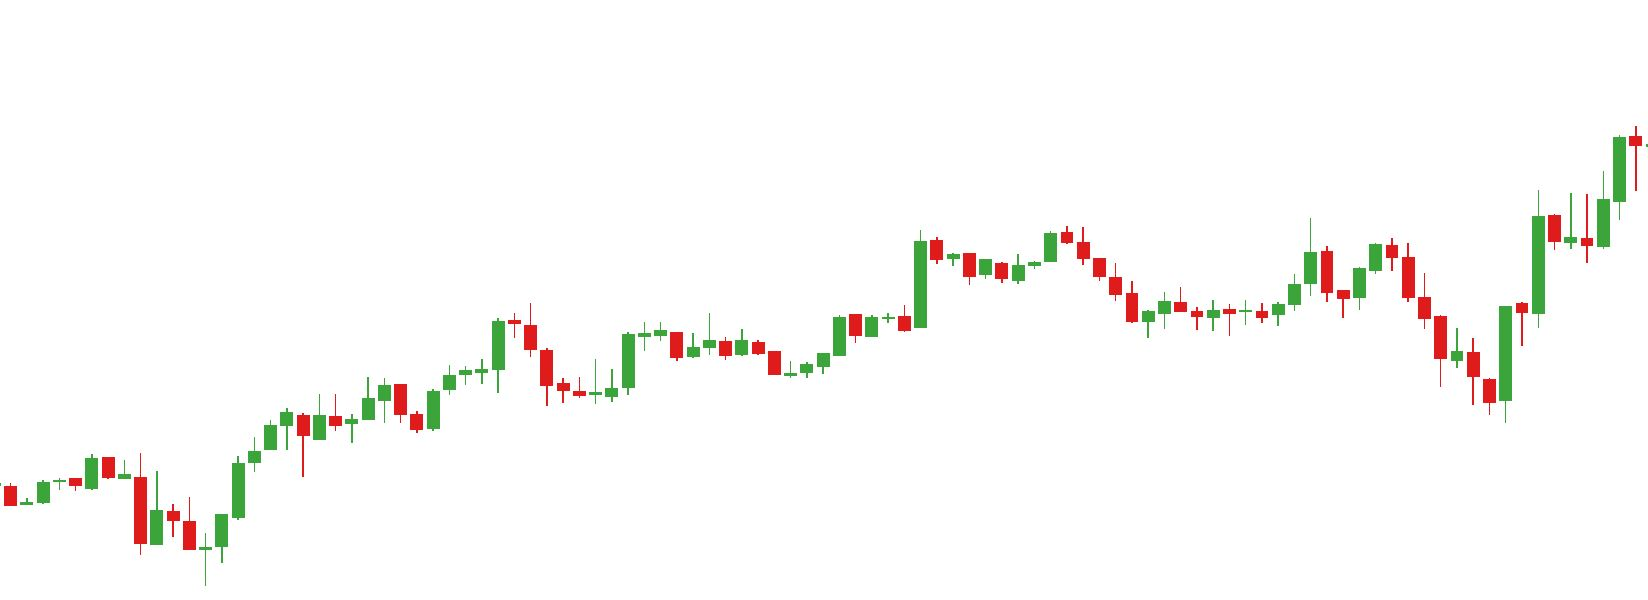buy: (487, 337, 621, 412)
